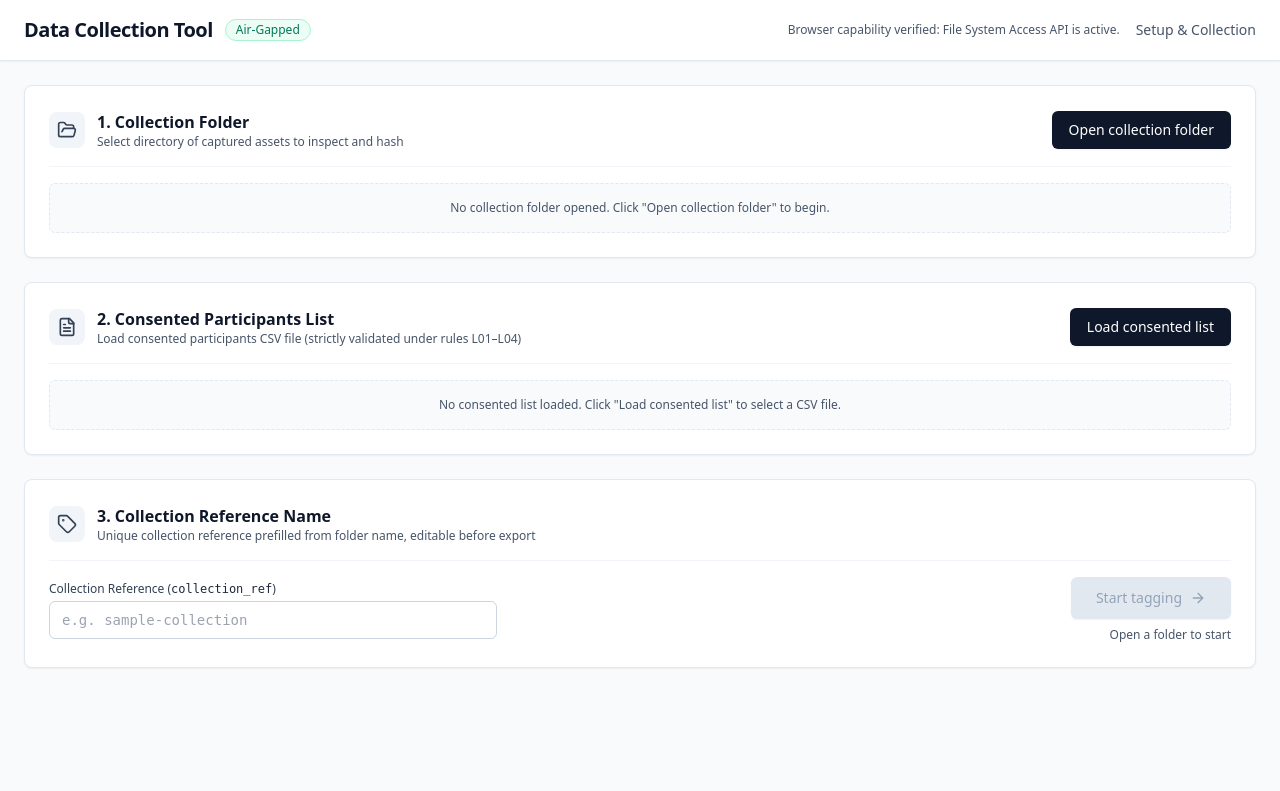
Test case: Adversarial Stress Harness: Milestone 4 Consented List Validation & Privacy › Challenge 4: Loading invalid list after a valid list was loaded › 4.3: Folder-coupled tagging readiness disables proceed button when valid list is replaced by invalid list
Later steps or results of the test are not shown.
Click the button with test id "open-folder-button" at (1141, 130), box [1052,111,1231,149]
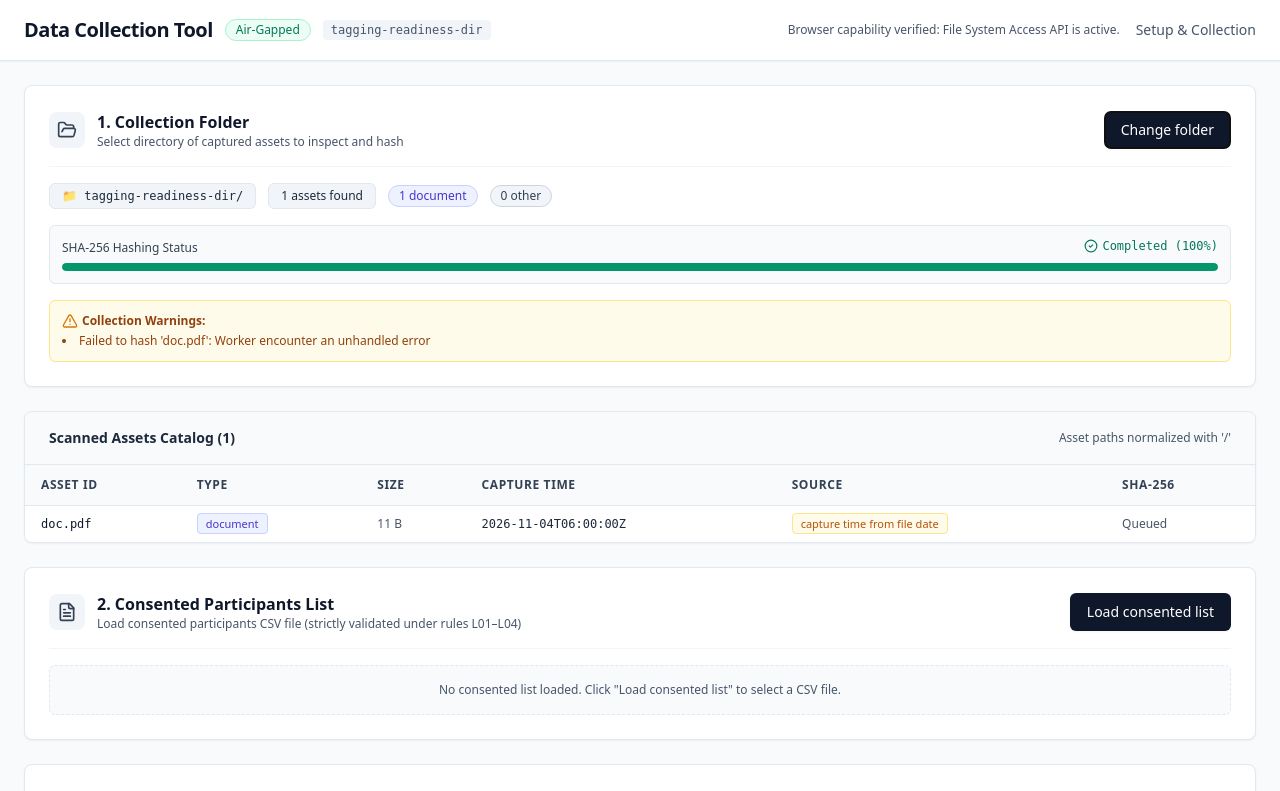
Expected: the text with test id "folder-name" shows "tagging-readiness-dir", [84,189,236,203]
